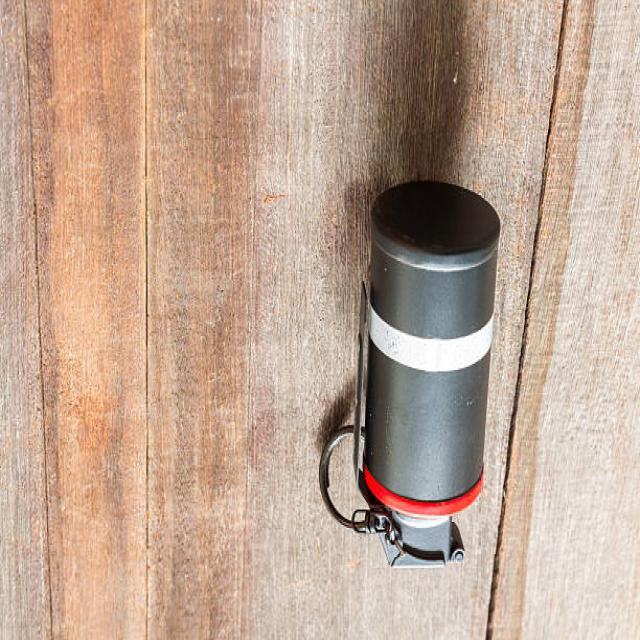grenade: (314, 174, 516, 582)
